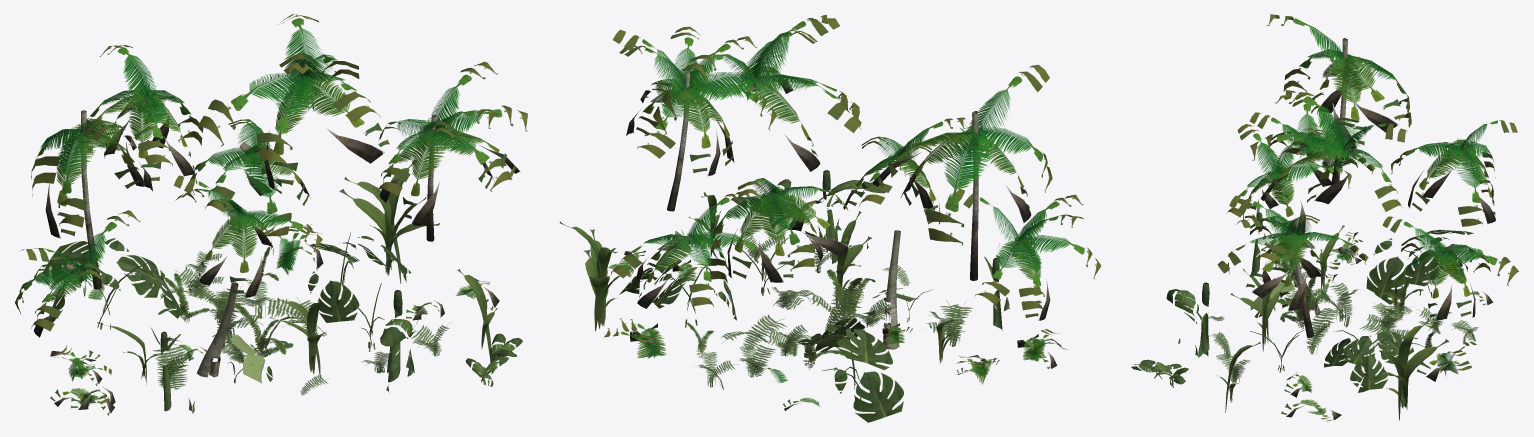
Rendered from tropical_bed.glb.
3 views of the same model, side by side, from view 1: azimuth 30°, elevation 25°; view 2: azimuth 150°, elevation 25°; view 3: azimuth 270°, elevation 25° (orthographic). The views are drawn at different scales.
Parts seen in each view (by area): view 1: fern_fern_0_w; view 2: fern_fern_0_w; view 3: fern_fern_0_w.
Boxes of the visible parts, left/top/right/bottom form: fern_fern_0_w: left=15, top=14, right=527, bottom=415; fern_fern_0_w: left=559, top=14, right=1100, bottom=422; fern_fern_0_w: left=1131, top=14, right=1518, bottom=421.
Bounding box in the file's own units: 3.17 × 1.92 × 2.58.
6 materials, 6 textured.
